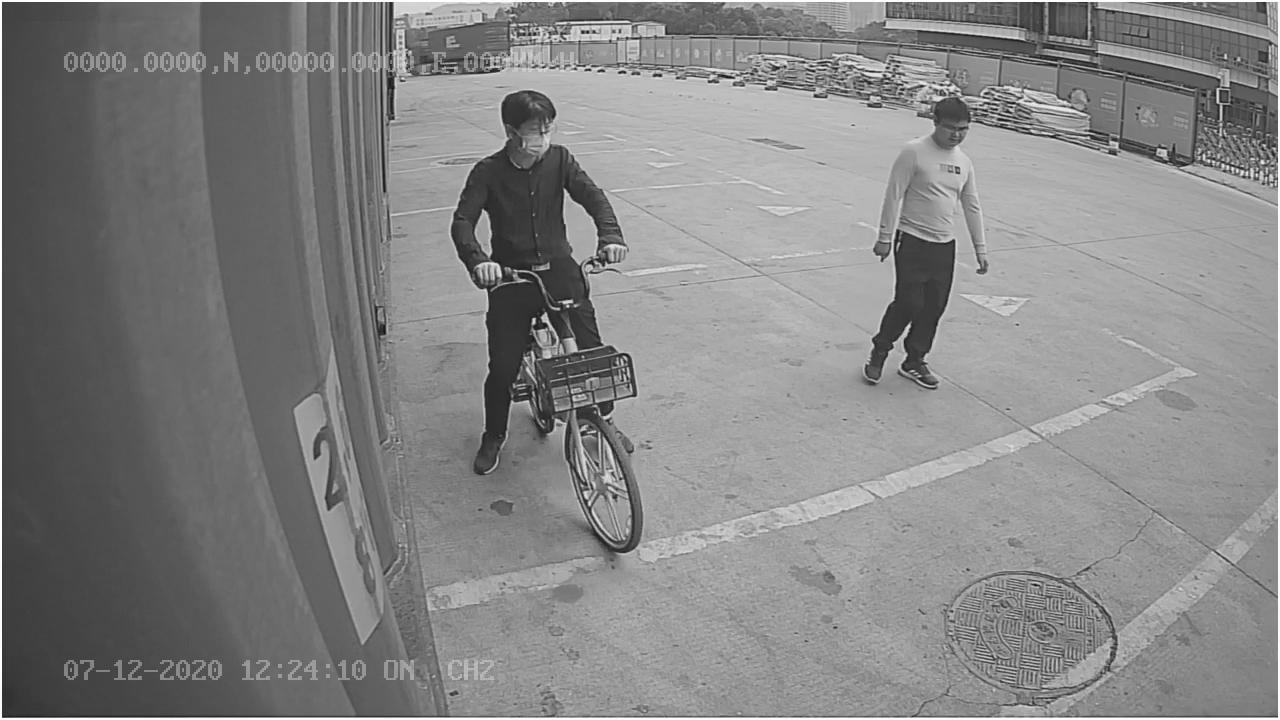person: (851, 91, 996, 395)
